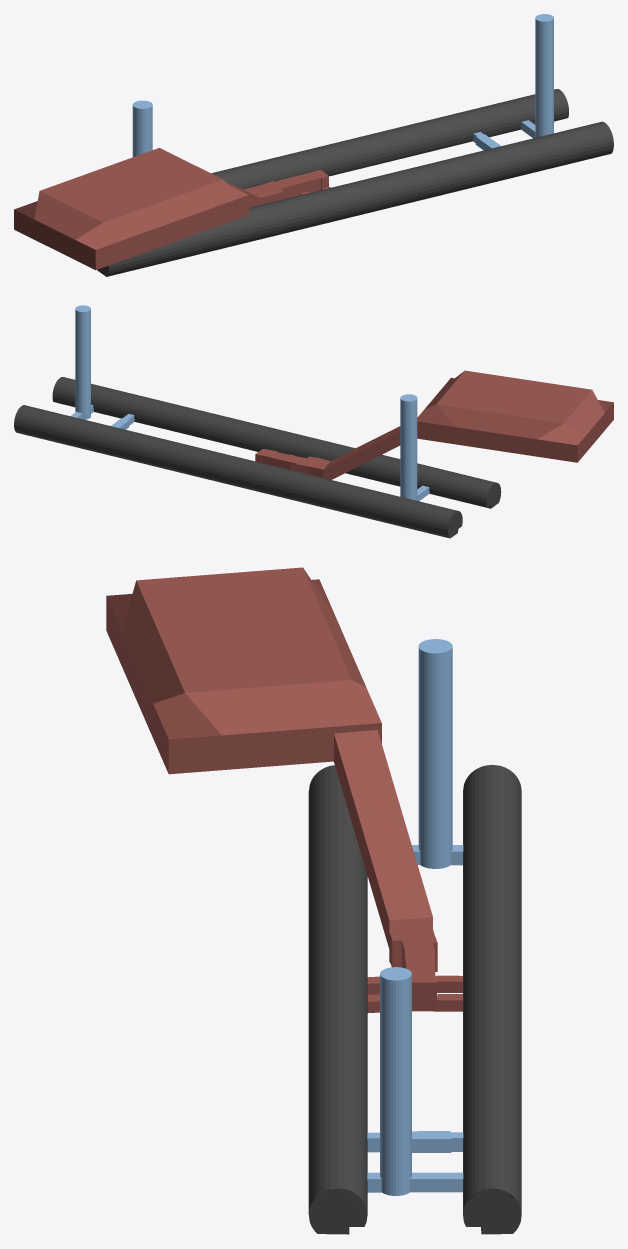
3 views of the same model, one above another, from view 1: azimuth 30°, elevation 25°; view 2: azimuth 150°, elevation 25°; view 3: azimuth 270°, elevation 25° (orthographic). The views are drawn at different scales.
Parts seen in each view (by area): view 1: TicketHall, PLT1, PLT2, 13, Concourse, 25; view 2: PLT2, TicketHall, PLT1, 25, 13, ESC, Concourse; view 3: TicketHall, PLT2, PLT1, ESC, 13, 25, Concourse, 33.
Boxes of the visible parts, box(x1,y1,x2,y2) form: TicketHall: box(14, 148, 248, 270); PLT1: box(97, 121, 613, 276); PLT2: box(211, 89, 568, 189); 13: box(521, 14, 553, 138); Concourse: box(244, 169, 328, 204); 25: box(132, 100, 152, 156); PLT2: box(14, 405, 462, 538); TicketHall: box(417, 370, 613, 462); PLT1: box(52, 377, 501, 508); 25: box(400, 394, 429, 501); 13: box(70, 305, 93, 419); ESC: box(323, 417, 417, 479); Concourse: box(255, 449, 330, 477); TicketHall: box(106, 567, 381, 774); PLT2: box(463, 765, 521, 1234); PLT1: box(308, 765, 367, 1234); ESC: box(334, 730, 432, 948); 13: box(367, 967, 463, 1195); 25: box(412, 639, 463, 868); Concourse: box(389, 917, 437, 1011); 33: box(367, 1131, 463, 1152).
Bounding box in the file's own units: 186 × 38.67 × 65.05.
